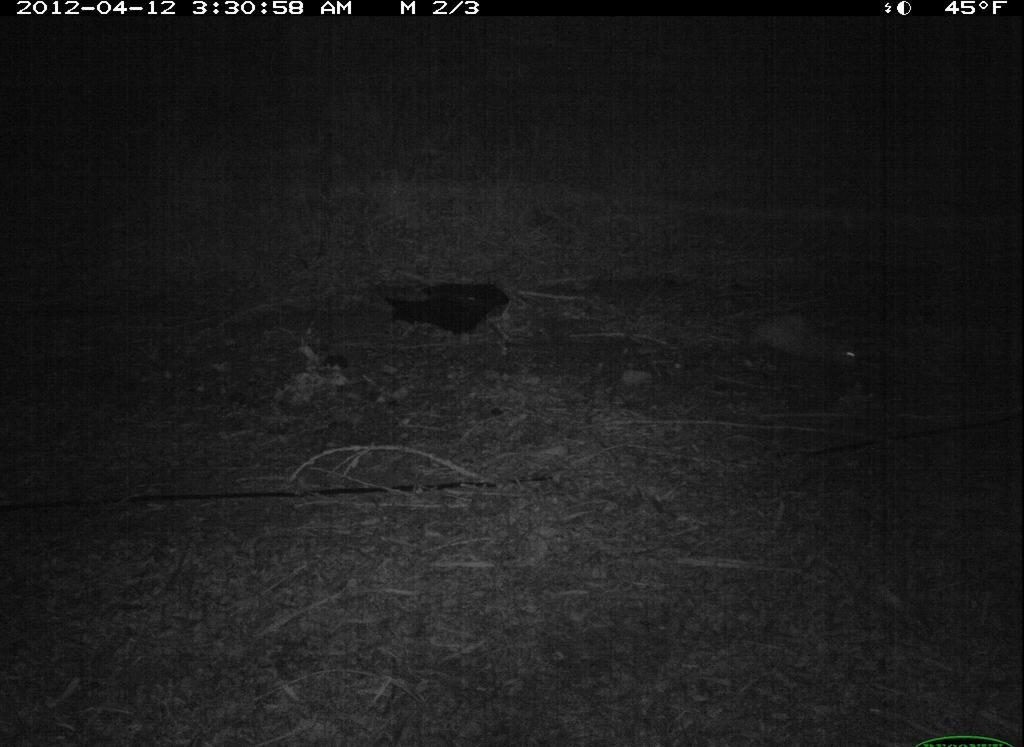opossum: (711, 301, 880, 387)
